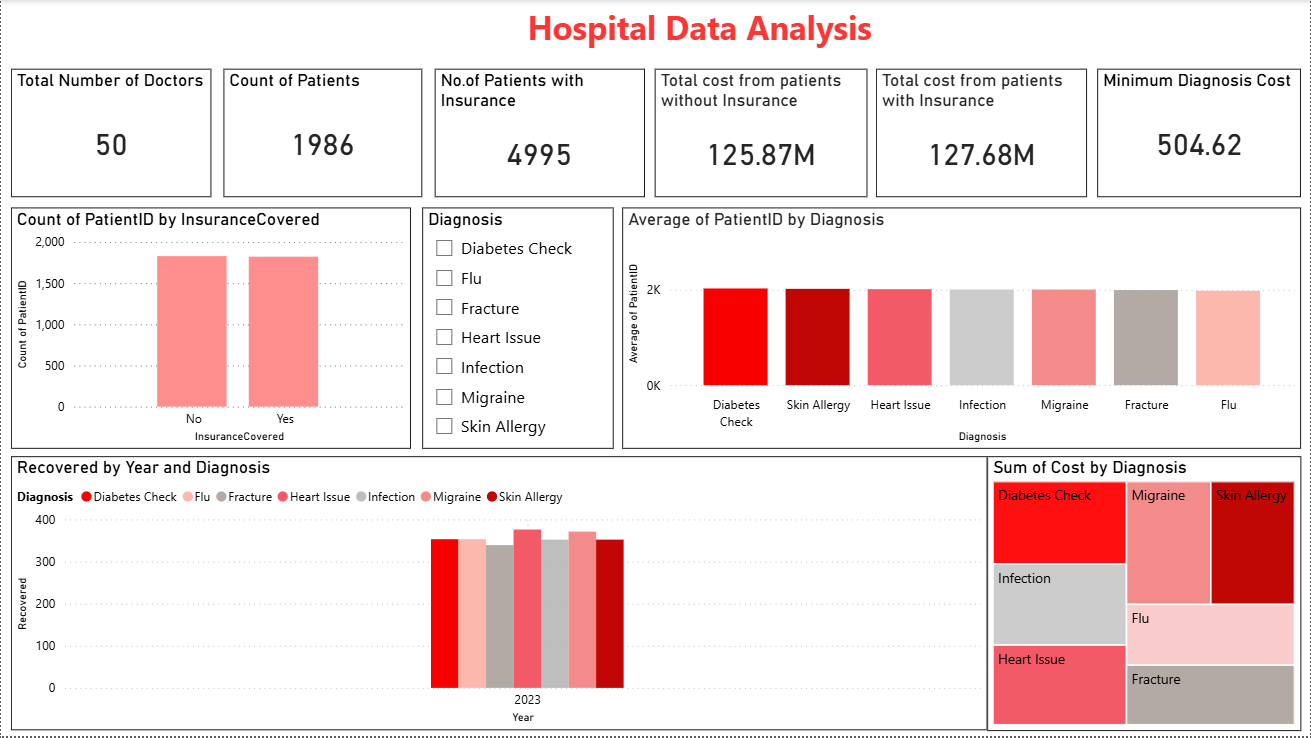

The page's visual inventory and layout, read from the dashboard file:
{"tool":"powerbi","page":{"name":"Page 1","canvas":[1280,720],"ordinal":0},"visuals":[{"type":"card","title":"Count of Patients","fields":{"Values":["Count(PatientVisits.PatientID)"]},"box":[217.7,67.3,194.4,126],"z":0},{"type":"card","title":"Total Number of Doctors","fields":{"Values":["Count(Doctor.DoctorID)"]},"box":[9.8,67.3,195.7,126],"z":1000},{"type":"textbox","box":[472,0,422.6,67.2],"z":2000},{"type":"slicer","title":"Diagnosis","fields":{"Values":["PatientVisits.Diagnosis"]},"box":[412.1,203,187.1,236],"z":3000},{"type":"columnChart","fields":{"Category":["PatientVisits.InsuranceCovered"],"Y":["Count(PatientVisits.PatientID)"]},"box":[9.8,203,391.3,236],"z":4000},{"type":"card","title":"No.of Patients with Insurance","fields":{"Values":["Doctor.YES"]},"box":[424.3,67.3,205.4,126],"z":5000},{"type":"card","title":"Total cost from patients with Insurance","fields":{"Values":["Doctor.with_insurance"]},"box":[856,67.3,206.7,126],"z":6000},{"type":"card","title":"Total cost from patients without Insurance","fields":{"Values":["Doctor.without_insurance"]},"box":[639.5,67.3,207.9,126],"z":7000},{"type":"clusteredColumnChart","fields":{"Y":["Avg(PatientVisits.PatientID)"],"Category":["PatientVisits.Diagnosis"]},"box":[607.7,203,664,236],"z":8000},{"type":"treemap","fields":{"Group":["PatientVisits.Diagnosis"],"Values":["Sum(PatientVisits.Cost)"]},"box":[964.8,446.3,306.9,269],"z":9000},{"type":"lineClusteredColumnComboChart","fields":{"Category":["PatientVisits.VisitDate.Variation.Date Hierarchy.Year","PatientVisits.VisitDate.Variation.Date Hierarchy.Month"],"Series":["PatientVisits.Diagnosis"],"Y":["Doctor.Recovered"]},"box":[9.8,446.3,955,267.8],"z":10000},{"type":"card","title":"Minimum Diagnosis Cost","fields":{"Values":["PatientVisits.Avg Cost per Visit"]},"box":[1072.4,67.3,199.3,126],"z":11000}]}

Visuals, with their boxes in screenshot pixels (x1, y1, x2, y2), scaled from the page's 1280x720 canvas onto the 1311x738 screenshot:
"Count of Patients" card: 223 69 422 198
"Total Number of Doctors" card: 10 69 210 198
textbox: 483 0 916 69
"Diagnosis" slicer: 422 208 614 450
columnChart - PatientVisits.InsuranceCovered x Count(PatientVisits.PatientID): 10 208 411 450
"No.of Patients with Insurance" card: 435 69 645 198
"Total cost from patients with Insurance" card: 877 69 1088 198
"Total cost from patients without Insurance" card: 655 69 868 198
clusteredColumnChart - Avg(PatientVisits.PatientID) x PatientVisits.Diagnosis: 622 208 1302 450
treemap - PatientVisits.Diagnosis x Sum(PatientVisits.Cost): 988 457 1302 733
lineClusteredColumnComboChart - PatientVisits.VisitDate.Variation.Date Hierarchy.Year x PatientVisits.VisitDate.Variation.Date Hierarchy.Month: 10 457 988 732
"Minimum Diagnosis Cost" card: 1098 69 1302 198
